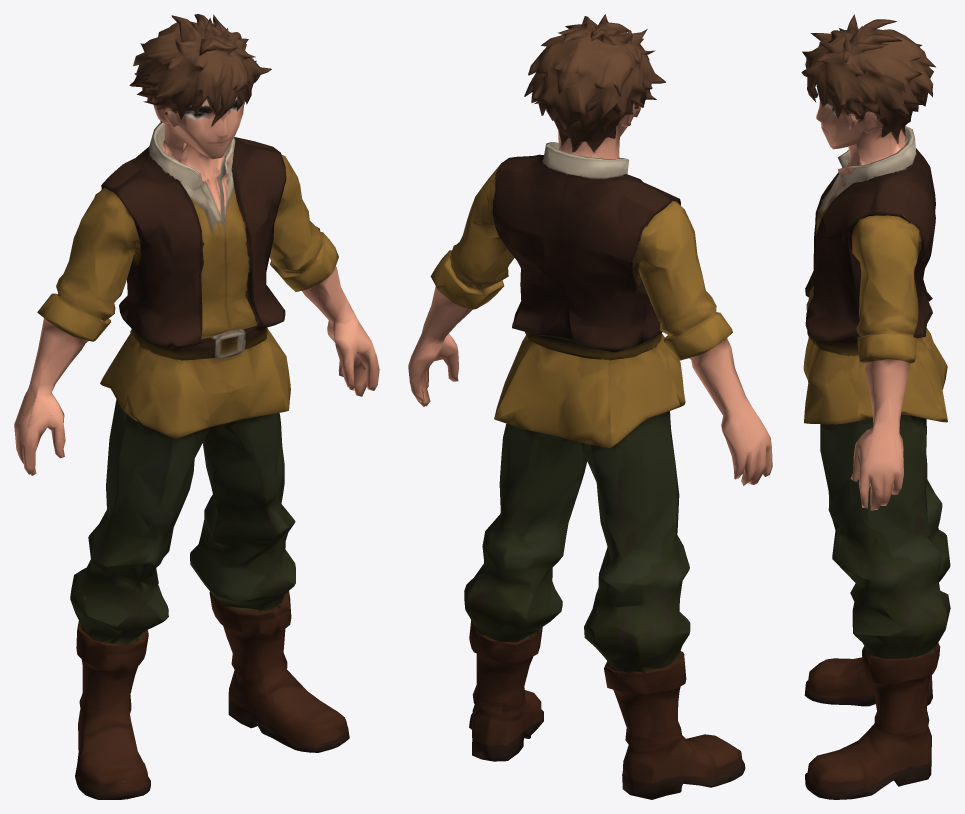
File: generated_textured.glb
3 renders of one model, left to right at view 1: azimuth 30°, elevation 25°; view 2: azimuth 150°, elevation 25°; view 3: azimuth 270°, elevation 25°, orthographic. The views are drawn at different scales.
Size of the model in its own units: 0.4931 by 0.9795 by 0.1849.
Materials: 1 (1 with a texture image).
